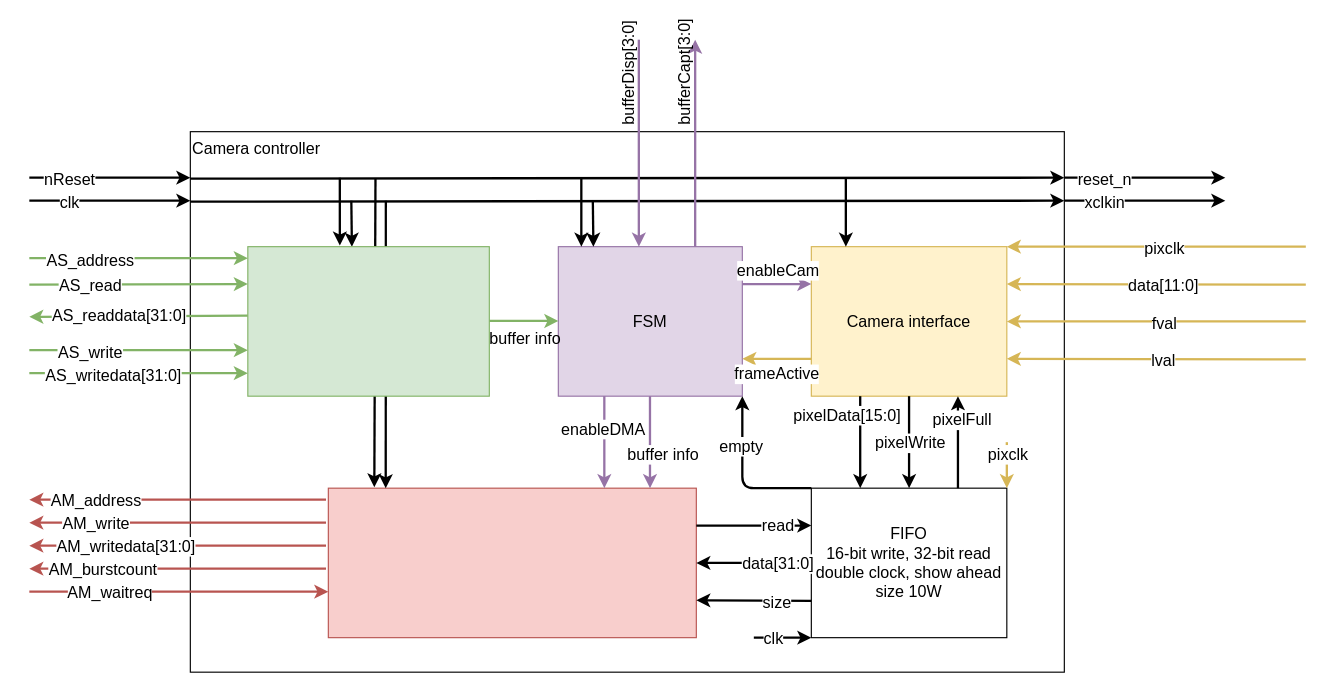
Image size: 1335x693. Some labels were removed from this diagram. Here are the shapes that lost their labels. From the top down, the centre of each, then its label:
At [368,321]: "Registers (buffer address, length)".
At [511,562]: "DMA".
